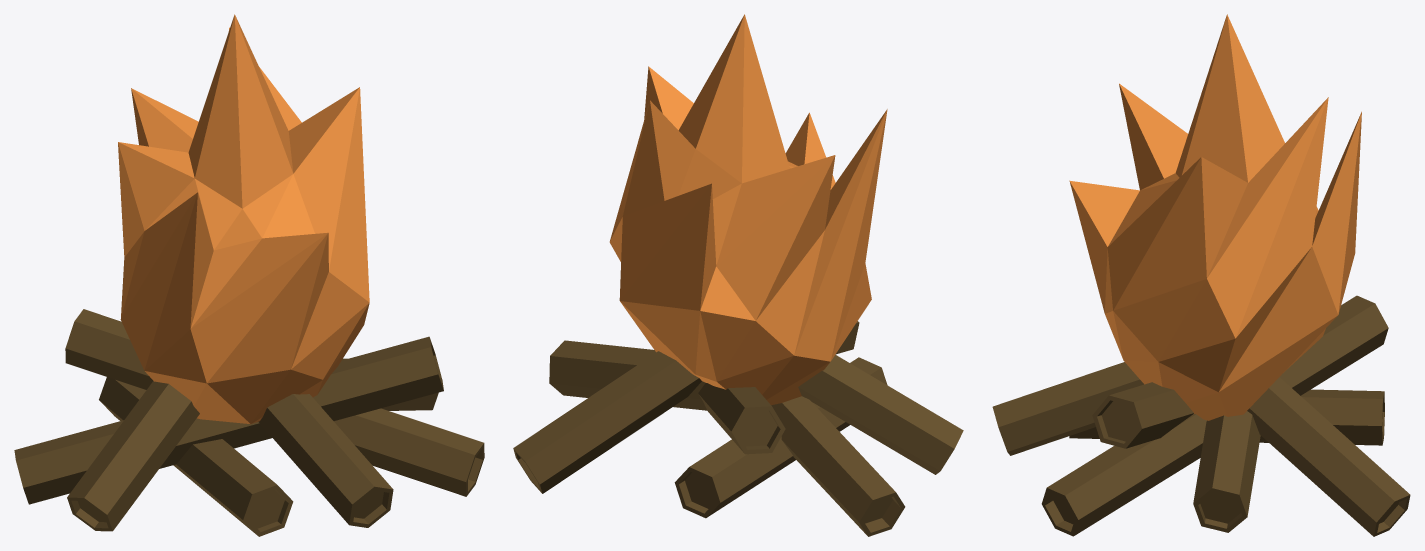
The model's file is Feuer.fbx.
3 views of the same model, side by side, from view 1: azimuth 30°, elevation 25°; view 2: azimuth 150°, elevation 25°; view 3: azimuth 270°, elevation 25° (orthographic). The views are drawn at different scales.
Visible parts, largest first — view 1: Platonischer_Körper_1, Holz_Haufen_Feuerstelle; view 2: Platonischer_Körper_1, Holz_Haufen_Feuerstelle; view 3: Platonischer_Körper_1, Holz_Haufen_Feuerstelle.
Boxes of the visible parts, <box> form: Platonischer_Körper_1: <box>118,14,369,424</box>; Holz_Haufen_Feuerstelle: <box>14,309,484,536</box>; Platonischer_Körper_1: <box>609,14,887,405</box>; Holz_Haufen_Feuerstelle: <box>513,321,963,536</box>; Platonischer_Körper_1: <box>1069,14,1361,420</box>; Holz_Haufen_Feuerstelle: <box>992,295,1410,536</box>.
Bounding box in the file's own units: 111 × 129 × 106.
